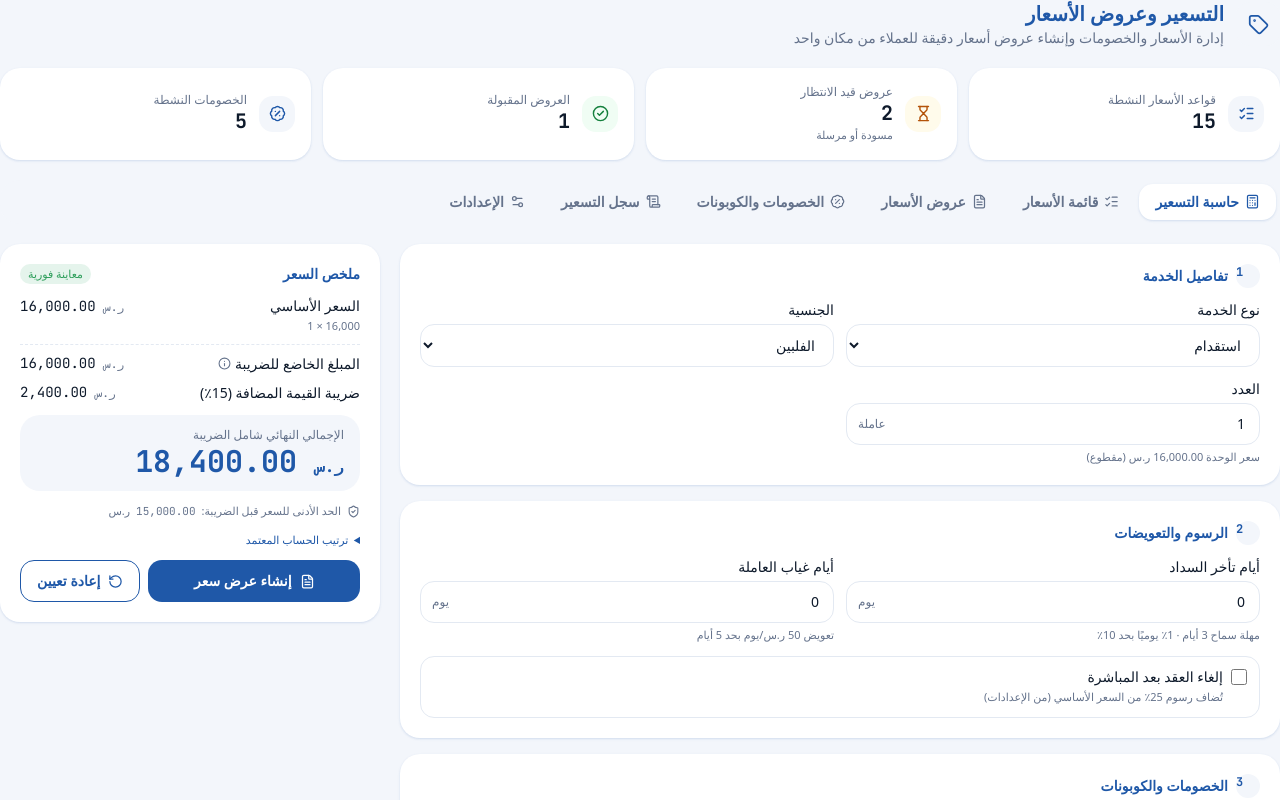
Test: pricing board › KPI tile opens the filtered quotes list
Click the button "العروض المقبولة 1" at (600, 114), box [323,68,634,160]
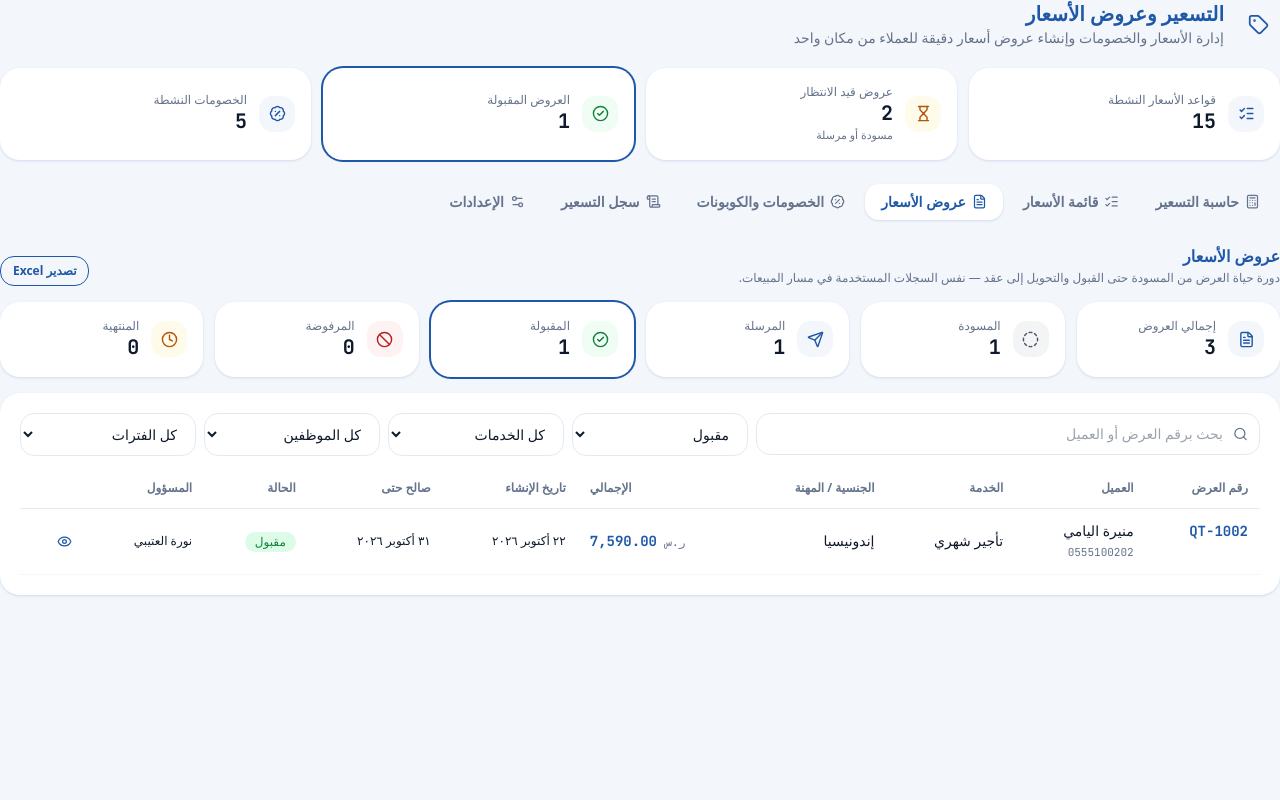
Expected: the text "منيرة اليامي" is shown, [1063,520,1134,540]
